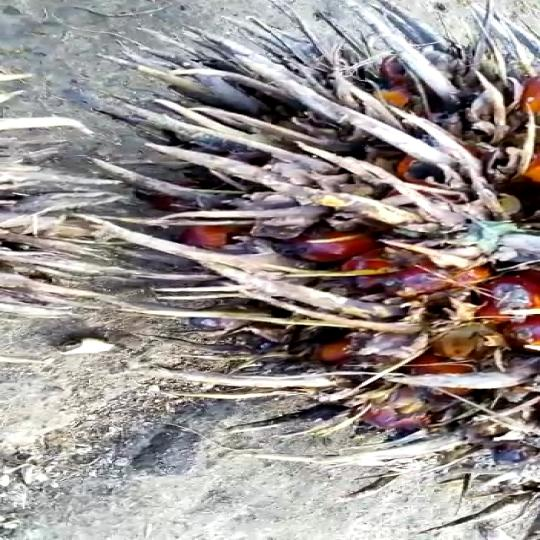terlalu masak: (62, 0, 538, 489)
